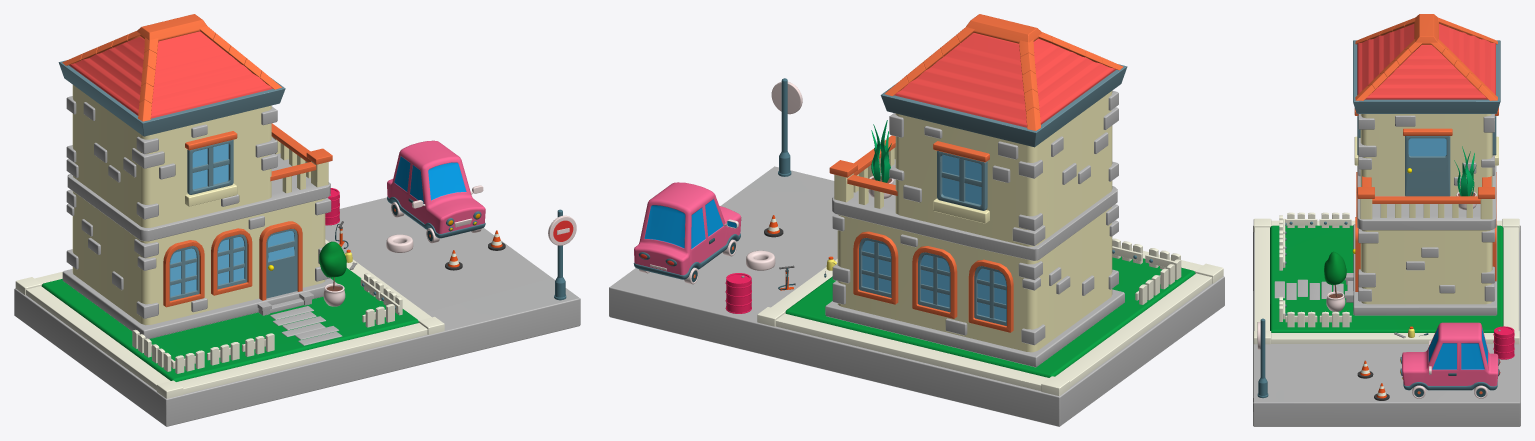
Rendered from Town_Island_5.glb.
The picture shows the model from 3 angles, left to right: view 1: azimuth 30°, elevation 25°; view 2: azimuth 150°, elevation 25°; view 3: azimuth 270°, elevation 25°; orthographic projection. The views are drawn at different scales.
Visible parts, largest first — view 1: Town_5_House_1, Town_5_Base_1, Town_5_Ground_1, Town_5_Car_1, Town_5_Path_1, Town_5_Plant_1, Town_5_Sign_1, Town_5_Fence_2, Town_5_Fence_4, Town_5_Fence_3, Town_5_Fence_5; view 2: Town_5_House_1, Town_5_Base_1, Town_5_Ground_1, Town_5_Car_1, Town_5_Sign_1, Town_5_Barrel_1, Town_5_Path_2, Town_5_Fence_3; view 3: Town_5_House_1, Town_5_Base_1, Town_5_Ground_1, Town_5_Car_1, Town_5_Path_1, Town_5_Plant_1, Town_5_Path_2, Town_5_Barrel_1, Town_5_Sign_1, Town_5_Fence_1, Town_5_Fence_6, Town_5_Fence_8 (+1 smaller).
Boxes of the visible parts, x1,y1,x2,y2 form: Town_5_House_1: [58, 14, 336, 338]; Town_5_Base_1: [14, 197, 580, 426]; Town_5_Ground_1: [15, 239, 444, 398]; Town_5_Car_1: [387, 140, 485, 243]; Town_5_Path_1: [270, 306, 342, 345]; Town_5_Plant_1: [319, 241, 346, 306]; Town_5_Sign_1: [548, 209, 576, 300]; Town_5_Fence_2: [172, 350, 204, 373]; Town_5_Fence_4: [242, 333, 274, 356]; Town_5_Fence_3: [207, 342, 239, 365]; Town_5_Fence_5: [362, 304, 394, 327]; Town_5_House_1: [825, 14, 1127, 367]; Town_5_Base_1: [609, 166, 1224, 426]; Town_5_Ground_1: [757, 245, 1223, 395]; Town_5_Car_1: [633, 182, 741, 284]; Town_5_Sign_1: [771, 78, 802, 176]; Town_5_Barrel_1: [725, 273, 751, 313]; Town_5_Path_2: [868, 120, 893, 198]; Town_5_Fence_3: [1112, 238, 1142, 264]; Town_5_House_1: [1344, 14, 1500, 315]; Town_5_Base_1: [1253, 225, 1520, 426]; Town_5_Ground_1: [1253, 218, 1519, 344]; Town_5_Car_1: [1400, 322, 1500, 398]; Town_5_Path_1: [1274, 279, 1343, 299]; Town_5_Plant_1: [1324, 251, 1346, 311]; Town_5_Path_2: [1454, 146, 1476, 210]; Town_5_Barrel_1: [1493, 326, 1514, 359]; Town_5_Sign_1: [1257, 318, 1268, 398]; Town_5_Fence_1: [1285, 311, 1317, 327]; Town_5_Fence_6: [1319, 311, 1351, 327]; Town_5_Fence_8: [1319, 212, 1351, 227].
Size of the model in its own units: 17.72 by 12.42 by 11.2.
Materials: 24 (24 with a texture image).
